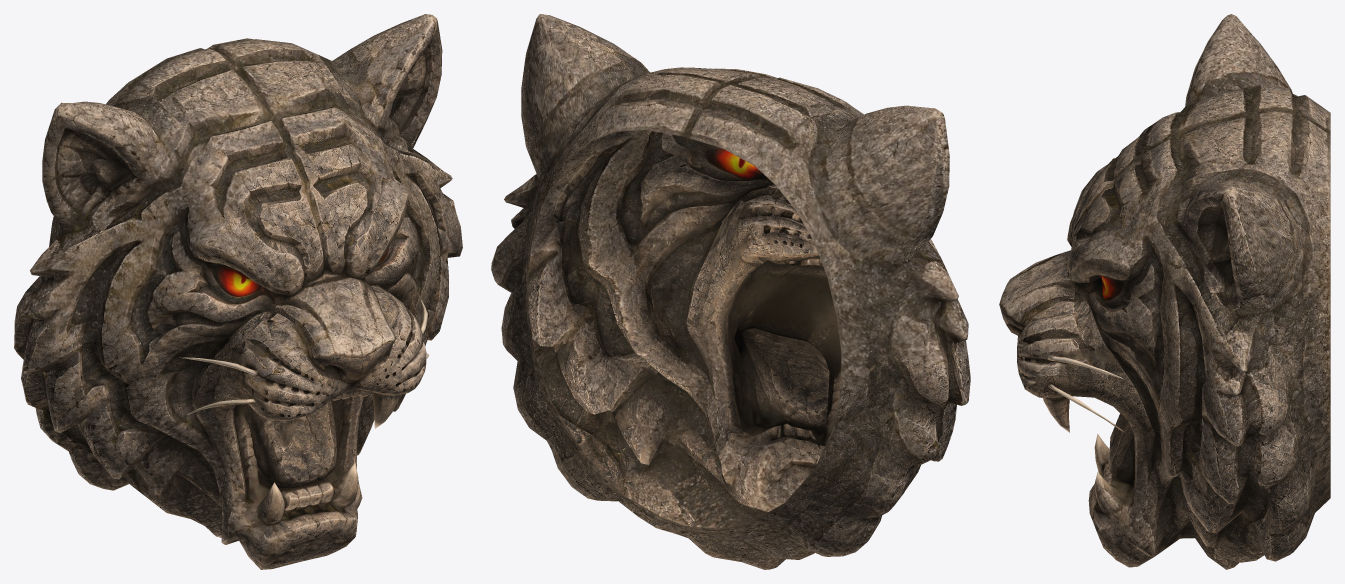
File: tiger.fbx
The picture shows the model from 3 angles, left to right: view 1: azimuth 30°, elevation 25°; view 2: azimuth 150°, elevation 25°; view 3: azimuth 270°, elevation 25°; orthographic projection. The views are drawn at different scales.
Parts seen in each view (by area): view 1: tripo_node_552abf4e; view 2: tripo_node_552abf4e; view 3: tripo_node_552abf4e.
Part boxes in pixels (bbox=[...]): tripo_node_552abf4e: bbox=[14, 14, 462, 569]; tripo_node_552abf4e: bbox=[491, 14, 970, 569]; tripo_node_552abf4e: bbox=[999, 14, 1330, 569].
Size of the model in its own units: 0.9707 by 0.998 by 0.6582.
Materials: 1 (1 with a texture image).
